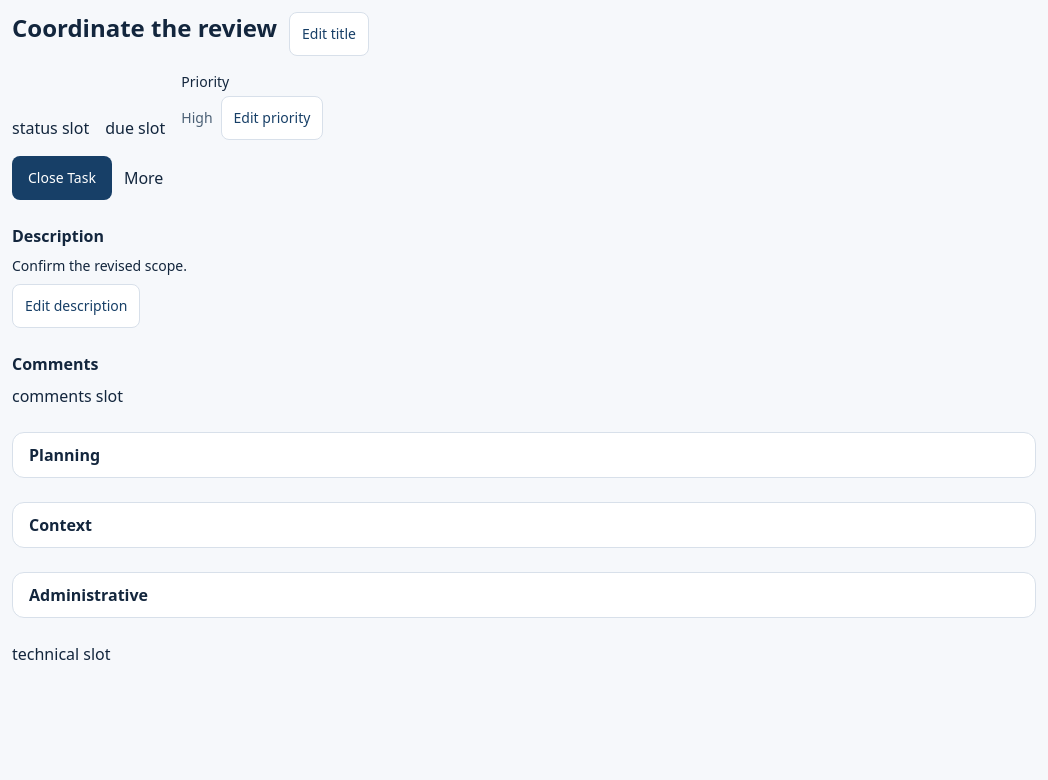
Scenario: progressive Task detail › blocks Close with an explanation while the description is dirty
The width and height of the screenshot is (1048, 780).
Click the button with test id "task-edit-description": (76, 306) [12, 284, 140, 328]
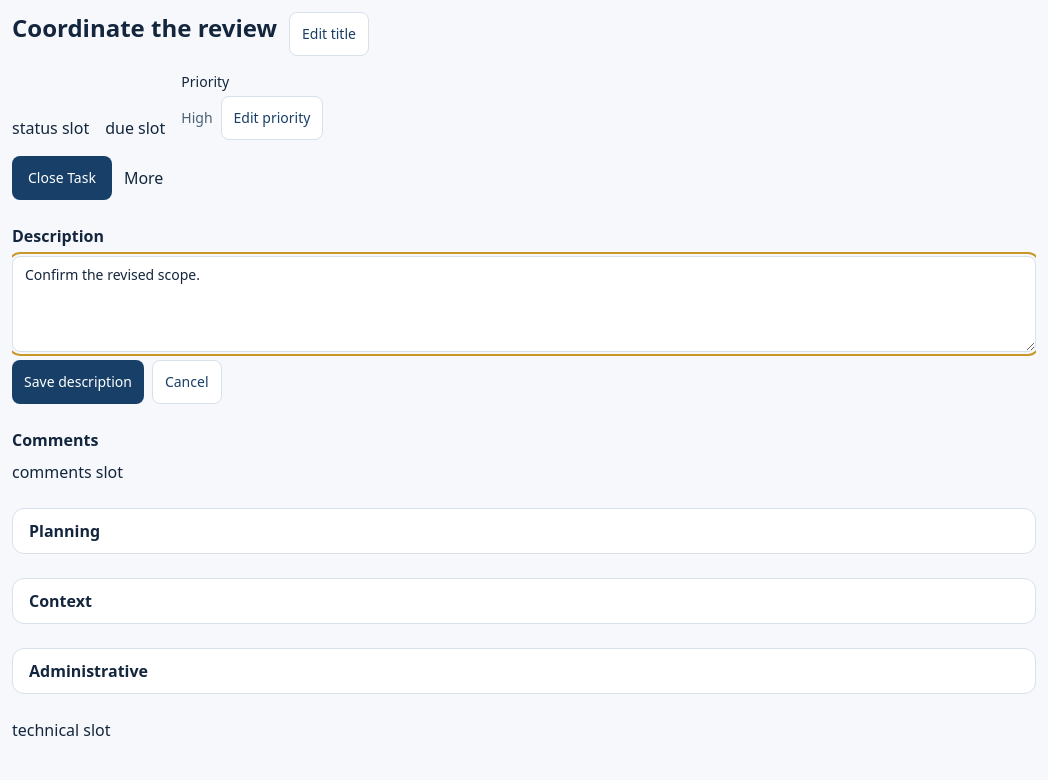
In the text box named "Description": (524, 304) [12, 256, 1036, 352], type " extra"
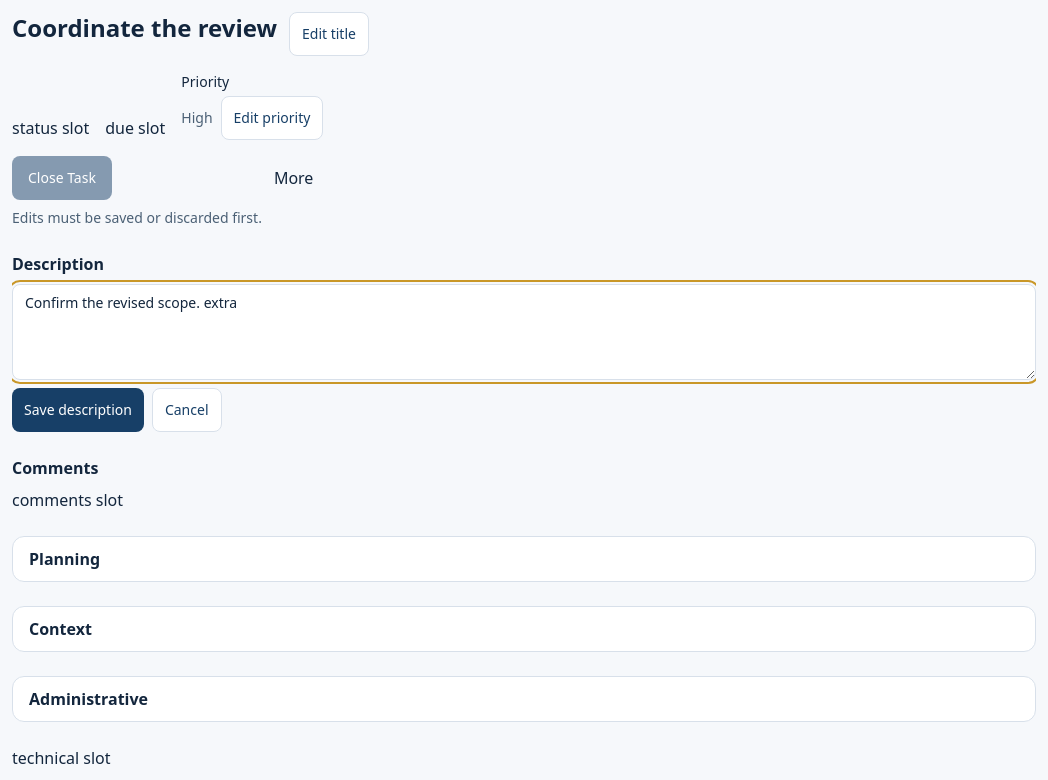
Expected: the text "Edits must be saved or discarded first." is shown, [12, 208, 262, 228]
Expected: the button with test id "task-close-trigger" is disabled, [12, 156, 112, 200]
